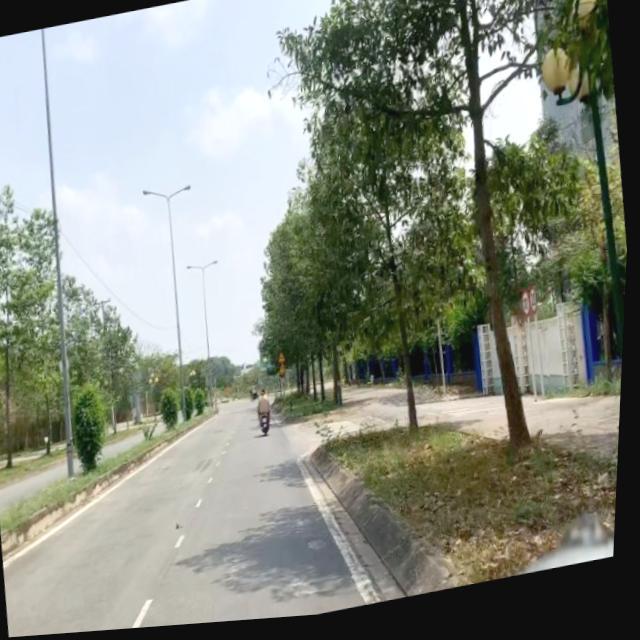Duong giao nhau cung cap: (280, 354, 290, 367)
Nguoi di bo cat ngang: (282, 366, 290, 378)
